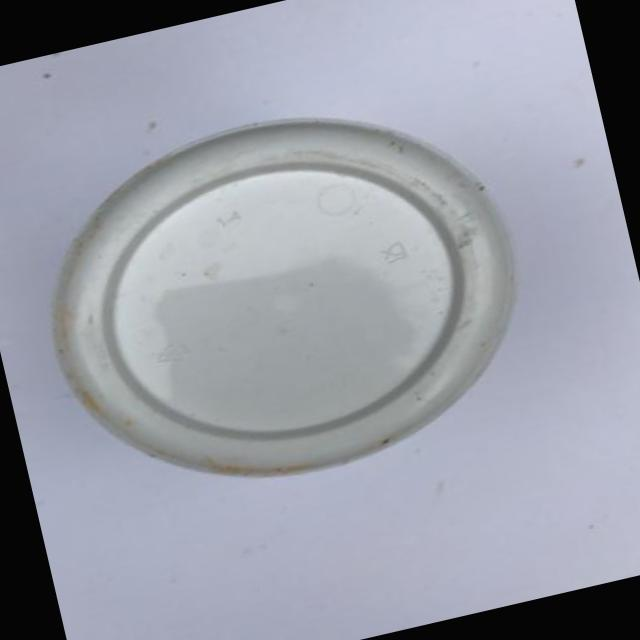plastic: (31, 103, 528, 524)
